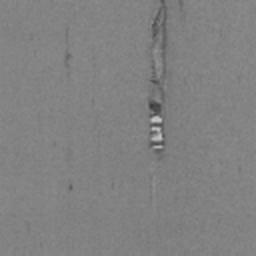Slag inclusion: (147, 0, 171, 161), (65, 52, 71, 67), (178, 0, 184, 12)
